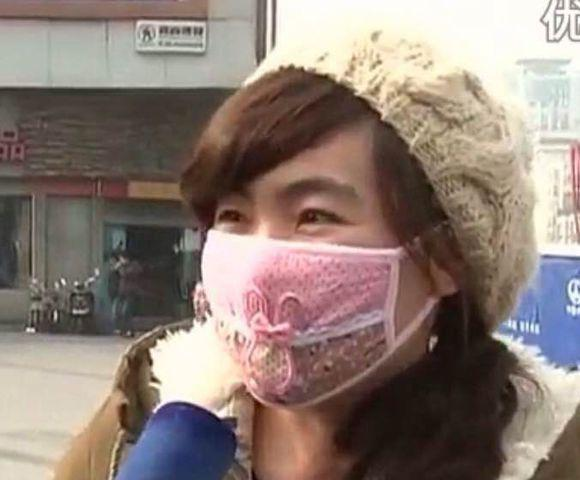OK: (195, 174, 414, 393)
